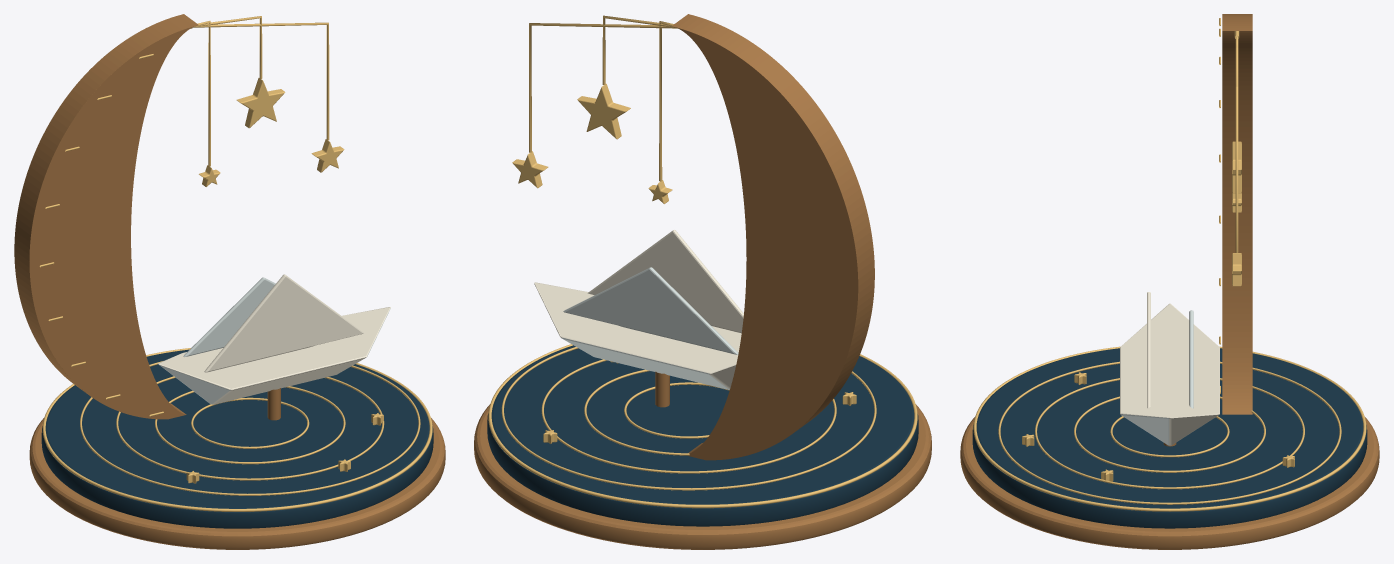
The model's file is meadow_moon_mooring.glb.
3 views of the same model, side by side, from view 1: azimuth 30°, elevation 25°; view 2: azimuth 150°, elevation 25°; view 3: azimuth 270°, elevation 25° (orthographic). The views are drawn at different scales.
Visible parts, largest first — view 1: Midnight pool, Solid bronze crescent, Bronze foot, Folded porcelain hull, Central paper fold, Plinth gold rim, Central paper fold.001, Still water ripple.003, Hanging brass star, Still water ripple.002, Still water ripple.001, Suspended starlight arm.001 (+2 smaller); view 2: Solid bronze crescent, Midnight pool, Bronze foot, Folded porcelain hull, Central paper fold.001, Central paper fold, Plinth gold rim, Still water ripple.003, Hanging brass star, Still water ripple.002, Suspended starlight arm.001, Hanging brass star.001 (+1 smaller); view 3: Midnight pool, Solid bronze crescent, Bronze foot, Folded porcelain hull, Plinth gold rim, Still water ripple.003, Still water ripple.002, Still water ripple.001, Suspended starlight arm.001.
Part boxes in pixels (x1=…): Midnight pool: x1=41, y1=349, x2=433, y2=528; Solid bronze crescent: x1=14, y1=14, x2=198, y2=419; Bronze foot: x1=29, y1=418, x2=445, y2=549; Folded porcelain hull: x1=157, y1=307, x2=390, y2=404; Central paper fold: x1=204, y1=274, x2=363, y2=372; Plinth gold rim: x1=42, y1=348, x2=432, y2=511; Central paper fold.001: x1=183, y1=277, x2=275, y2=356; Still water ripple.003: x1=80, y1=361, x2=420, y2=495; Hanging brass star: x1=236, y1=78, x2=285, y2=128; Still water ripple.002: x1=116, y1=376, x2=384, y2=480; Still water ripple.001: x1=155, y1=386, x2=345, y2=464; Suspended starlight arm.001: x1=193, y1=22, x2=329, y2=140; Solid bronze crescent: x1=672, y1=14, x2=874, y2=460; Midnight pool: x1=487, y1=345, x2=918, y2=526; Bronze foot: x1=474, y1=404, x2=931, y2=549; Folded porcelain hull: x1=534, y1=282, x2=741, y2=389; Central paper fold.001: x1=563, y1=267, x2=738, y2=354; Central paper fold: x1=587, y1=230, x2=743, y2=333; Plinth gold rim: x1=488, y1=344, x2=917, y2=508; Still water ripple.003: x1=501, y1=347, x2=876, y2=490; Hanging brass star: x1=577, y1=83, x2=630, y2=139; Still water ripple.002: x1=541, y1=359, x2=836, y2=473; Suspended starlight arm.001: x1=529, y1=23, x2=677, y2=152; Hanging brass star.001: x1=512, y1=151, x2=548, y2=188; Midnight pool: x1=972, y1=348, x2=1367, y2=528; Solid bronze crescent: x1=1222, y1=14, x2=1252, y2=414; Bronze foot: x1=960, y1=417, x2=1379, y2=549; Folded porcelain hull: x1=1120, y1=303, x2=1219, y2=445; Plinth gold rim: x1=973, y1=346, x2=1366, y2=511; Still water ripple.003: x1=998, y1=361, x2=1341, y2=504; Still water ripple.002: x1=1035, y1=378, x2=1304, y2=489; Still water ripple.001: x1=1074, y1=396, x2=1265, y2=472; Suspended starlight arm.001: x1=1235, y1=86, x2=1238, y2=252.
Bounding box in the file's own units: 3.46 × 3.86 × 3.44.
